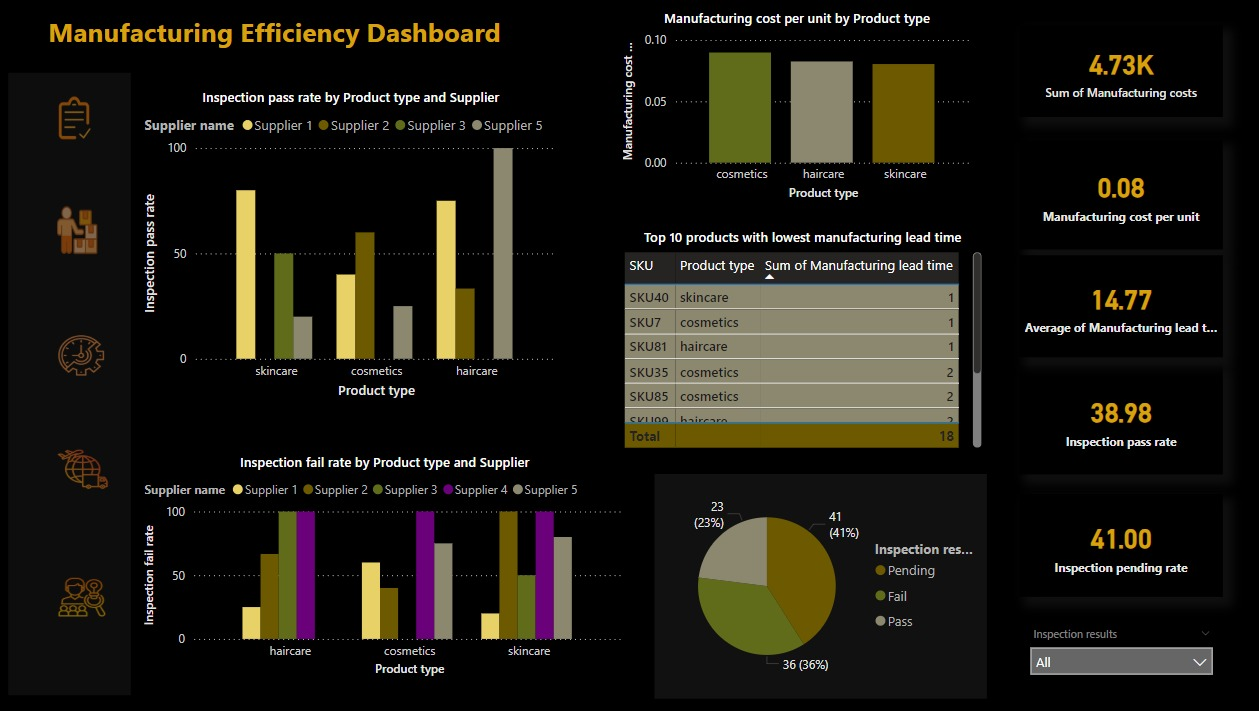

Layout of this report page (visuals, bound fields, positions):
{"tool":"powerbi","page":{"name":"Manufacturing efficiency dashboard","canvas":[1280,720],"ordinal":2},"visuals":[{"type":"actionButton","box":[59.4,98.6,37.6,43.9],"z":0,"group":"g1"},{"type":"shape","box":[11.4,74.6,123.9,629.4],"z":0},{"type":"textbox","box":[46.9,10.6,606.7,63.5],"z":1000},{"type":"card","fields":{"Values":["Sum(supply_chain_data (2).Manufacturing costs)"]},"box":[1034.3,27.1,205.7,92.9],"z":3000},{"type":"actionButton","box":[60.7,207.3,40.4,53.1],"z":3000,"group":"g1"},{"type":"columnChart","fields":{"Category":["supply_chain_data (2).Product type"],"Y":["supply_chain_data (2).Manufacturing cost per unit"]},"box":[628.6,10,361.4,198.6],"z":4000},{"type":"actionButton","box":[61.9,340,46.8,40.4],"z":4000,"group":"g1"},{"type":"card","fields":{"Values":["supply_chain_data (2).Manufacturing cost per unit"]},"box":[1034.3,142.9,205.7,110],"z":5000},{"type":"actionButton","box":[60.7,585.2,50.6,39.2],"z":5000,"group":"g1"},{"type":"actionButton","box":[60.7,455,51.8,40.4],"z":6000,"group":"g1"},{"type":"card","fields":{"Values":["supply_chain_data (2).Inspection pass rate"]},"box":[1034.3,370,205.7,110],"z":6000},{"type":"card","fields":{"Values":["supply_chain_data (2).Inspection pending rate"]},"box":[1034.3,500,205.7,104.3],"z":7000},{"type":"pieChart","fields":{"Category":["supply_chain_data (2).Inspection results"],"Y":["CountNonNull(supply_chain_data (2).Inspection results)"]},"box":[664.3,480,335.7,227.1],"z":8000},{"type":"lineClusteredColumnComboChart","title":"Inspection pass rate by Product type and Supplier ","fields":{"Category":["supply_chain_data (2).Product type"],"Series":["supply_chain_data (2).Supplier name"],"Y":["supply_chain_data (2).Inspection pass rate"]},"box":[144.3,90,427.1,318.6],"z":9000},{"type":"clusteredColumnChart","title":"Inspection fail rate by Product type and Supplier ","fields":{"Category":["supply_chain_data (2).Product type"],"Series":["supply_chain_data (2).Supplier name"],"Y":["supply_chain_data (2).Inspection fail rate"]},"box":[144.3,458.6,495.7,231.4],"z":10000},{"type":"card","fields":{"Values":["Avg(supply_chain_data (2).Manufacturing lead time)"]},"box":[1034.3,258.6,205.7,102.9],"z":11000},{"type":"tableEx","title":"Top 10 products with lowest manufacturing lead time","fields":{"Values":["supply_chain_data (2).SKU","supply_chain_data (2).Product type","Sum(supply_chain_data (2).Manufacturing lead time)"]},"box":[615.7,231.4,384.3,227.1],"z":12000},{"type":"slicer","fields":{"Values":["supply_chain_data (2).Inspection results"]},"box":[1034.3,630,205.7,74.3],"z":13000},{"type":"group","id":"g1","title":"Group 1","box":[59.4,98.6,53.1,525.8],"z":13001}]}

Visuals, with their boxes in screenshot pixels (x1, y1, x2, y2), scaled from the page's 1280x720 canvas onto the 1259x711 screenshot:
actionButton: 58/97/95/141
shape: 11/74/133/695
textbox: 46/10/643/73
card - Sum(supply_chain_data (2).Manufacturing costs): 1017/27/1220/118
actionButton: 60/205/99/257
columnChart - supply_chain_data (2).Product type x supply_chain_data (2).Manufacturing cost per unit: 618/10/974/206
actionButton: 61/336/107/376
card - supply_chain_data (2).Manufacturing cost per unit: 1017/141/1220/250
actionButton: 60/578/109/617
actionButton: 60/449/111/489
card - supply_chain_data (2).Inspection pass rate: 1017/365/1220/474
card - supply_chain_data (2).Inspection pending rate: 1017/494/1220/597
pieChart - supply_chain_data (2).Inspection results x CountNonNull(supply_chain_data (2).Inspection results): 653/474/984/698
"Inspection pass rate by Product type and Supplier " lineClusteredColumnComboChart: 142/89/562/403
"Inspection fail rate by Product type and Supplier " clusteredColumnChart: 142/453/630/681
card - Avg(supply_chain_data (2).Manufacturing lead time): 1017/255/1220/357
"Top 10 products with lowest manufacturing lead time" tableEx: 606/229/984/453
slicer - supply_chain_data (2).Inspection results: 1017/622/1220/695
"Group 1" group: 58/97/111/617
